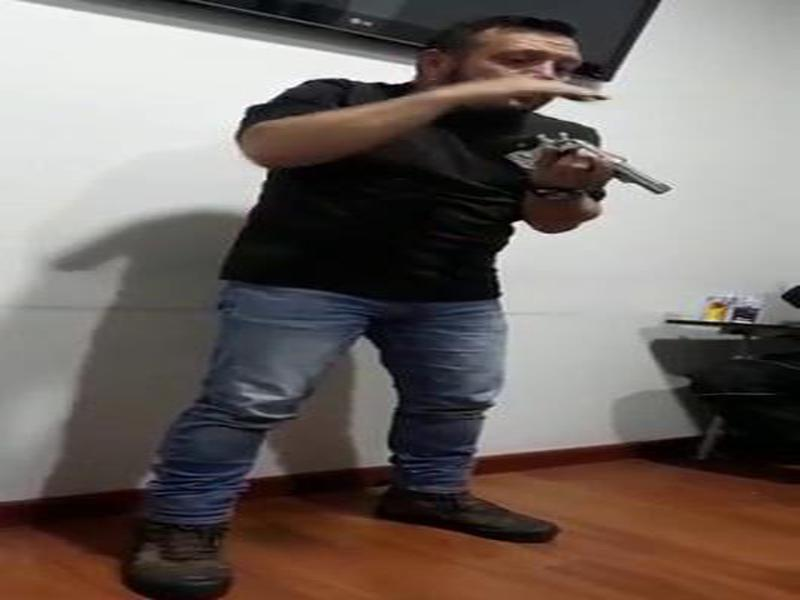Revolver: (517, 125, 684, 227)
